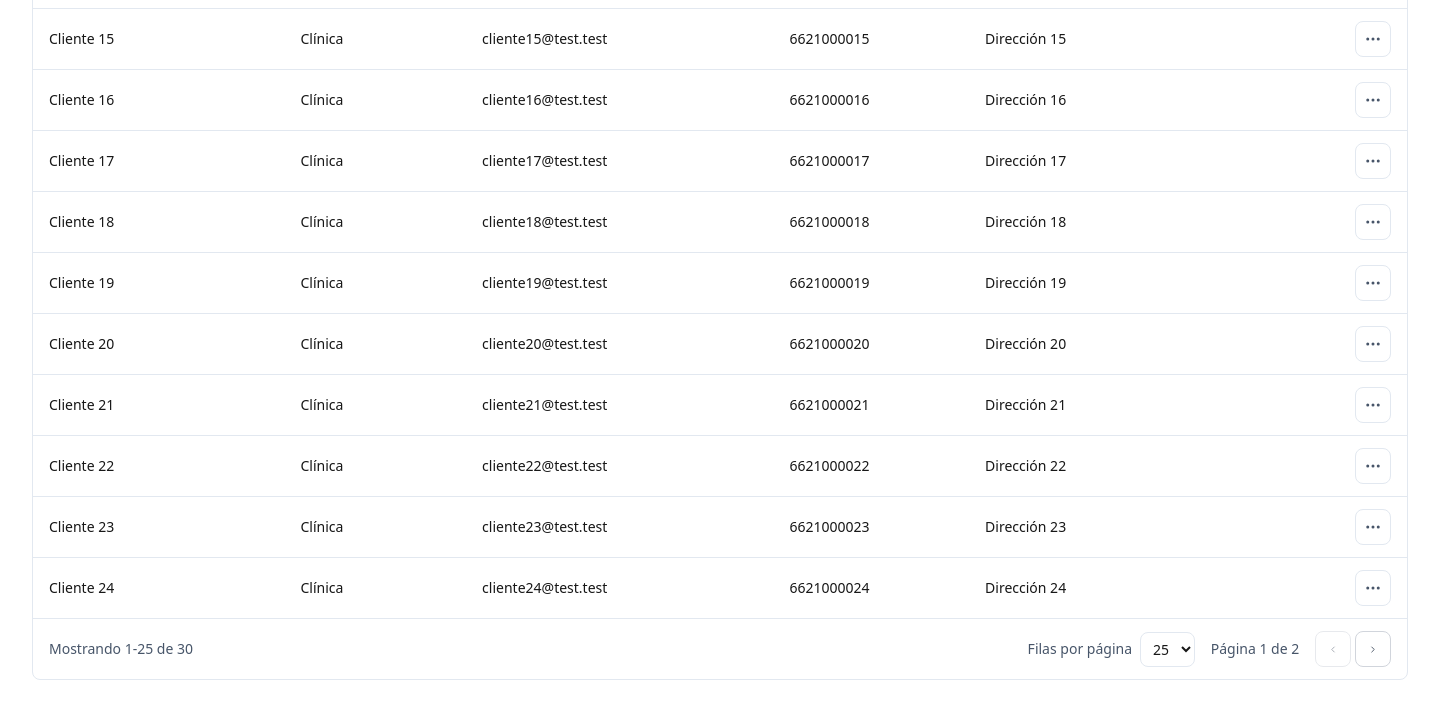
Test case: CustomersPage › pagina con 25 filas por defecto, permite cambiar tamaño y reinicia la búsqueda
This screenshot has width=1440, height=712.
(page scrolled)
Check: the text "Mostrando 1-25 de 30" is shown, box [49, 639, 193, 659]
Check: the text "Cliente 29" is not shown
Click the button named "Página siguiente". click: x=1373, y=649
box: [1355, 631, 1391, 667]
(page scrolled)
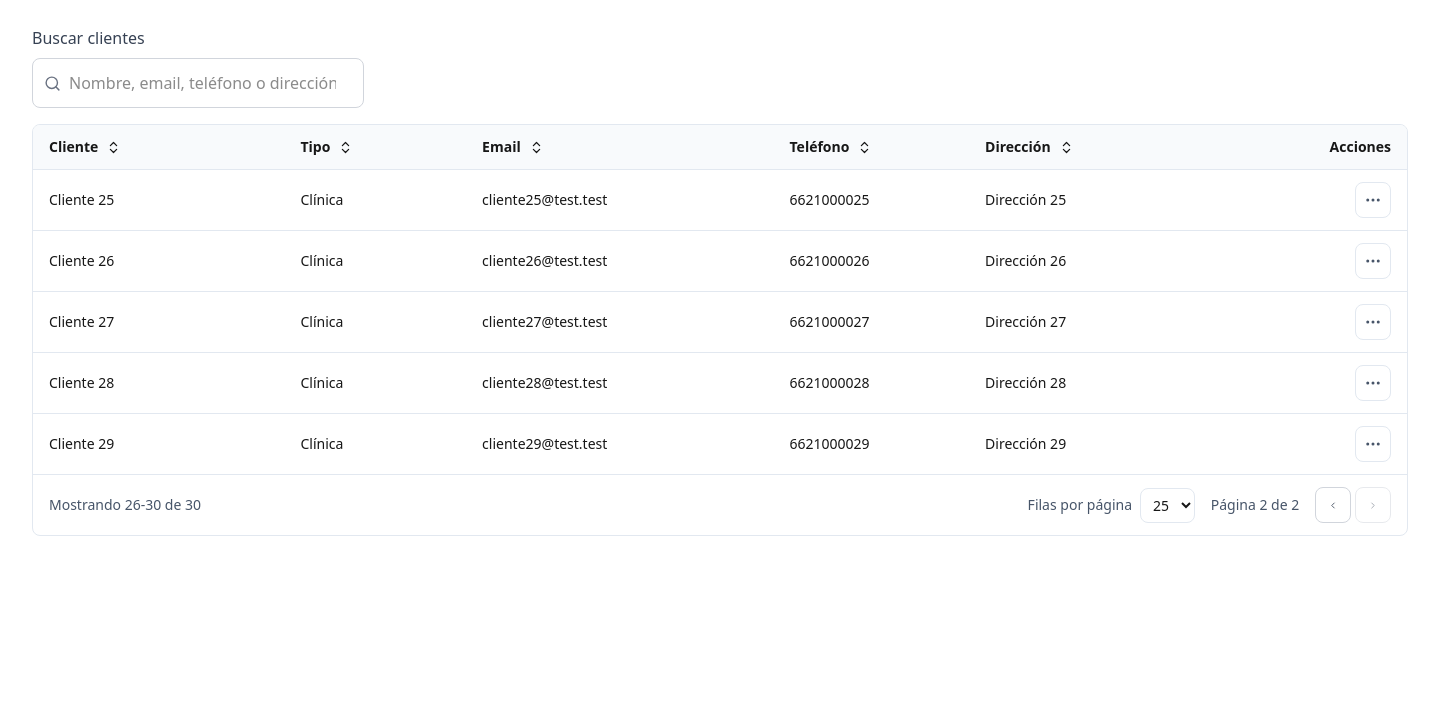
Check: the text "Cliente 29" is shown, box [33, 414, 284, 474]
Check: the text "Mostrando 26-30 de 30" is shown, box [49, 495, 201, 515]
Select "10" in the dropdown labelled "Filas por página". click: x=1168, y=505
box: [1140, 488, 1195, 522]
(page scrolled)
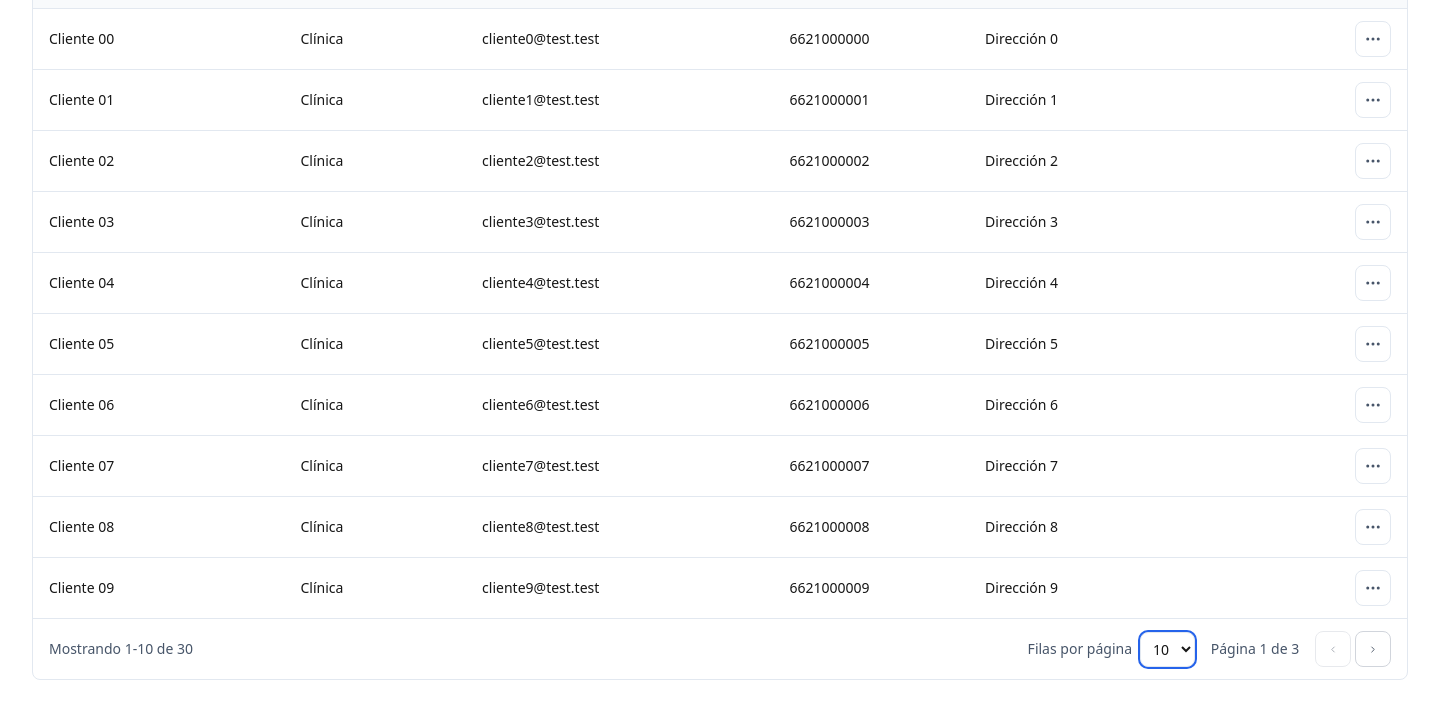
Check: the text "Mostrando 1-10 de 30" is shown, box [49, 639, 193, 659]
Check: the text "Cliente 00" is shown, box [33, 8, 284, 70]
Check: the text "Cliente 29" is gone
Click the button named "Página siguiente". click: x=1373, y=649
box: [1355, 631, 1391, 667]
(page scrolled)
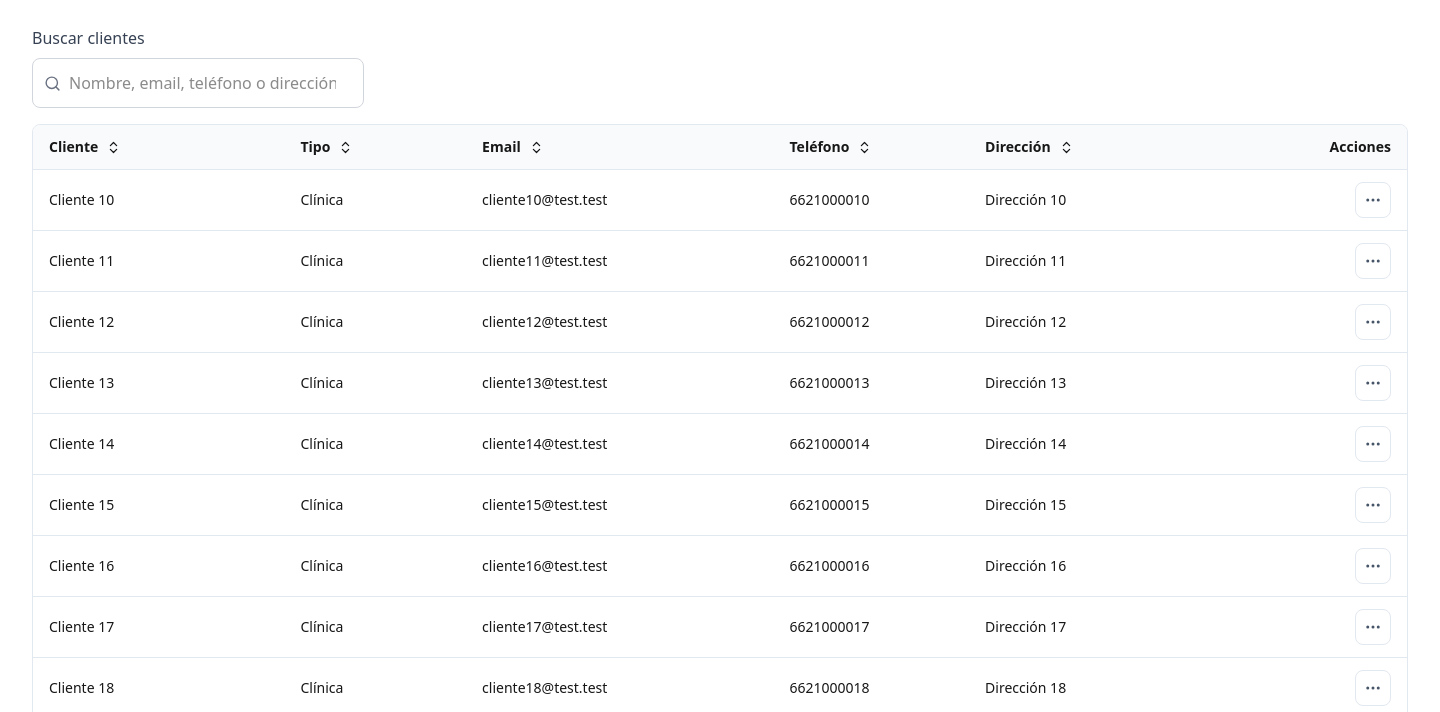
Check: the text "Cliente 10" is shown, box [33, 170, 284, 230]
Type "Cliente 29" into the search field labelled "Buscar clientes". click: x=198, y=83
box: [32, 58, 364, 108]
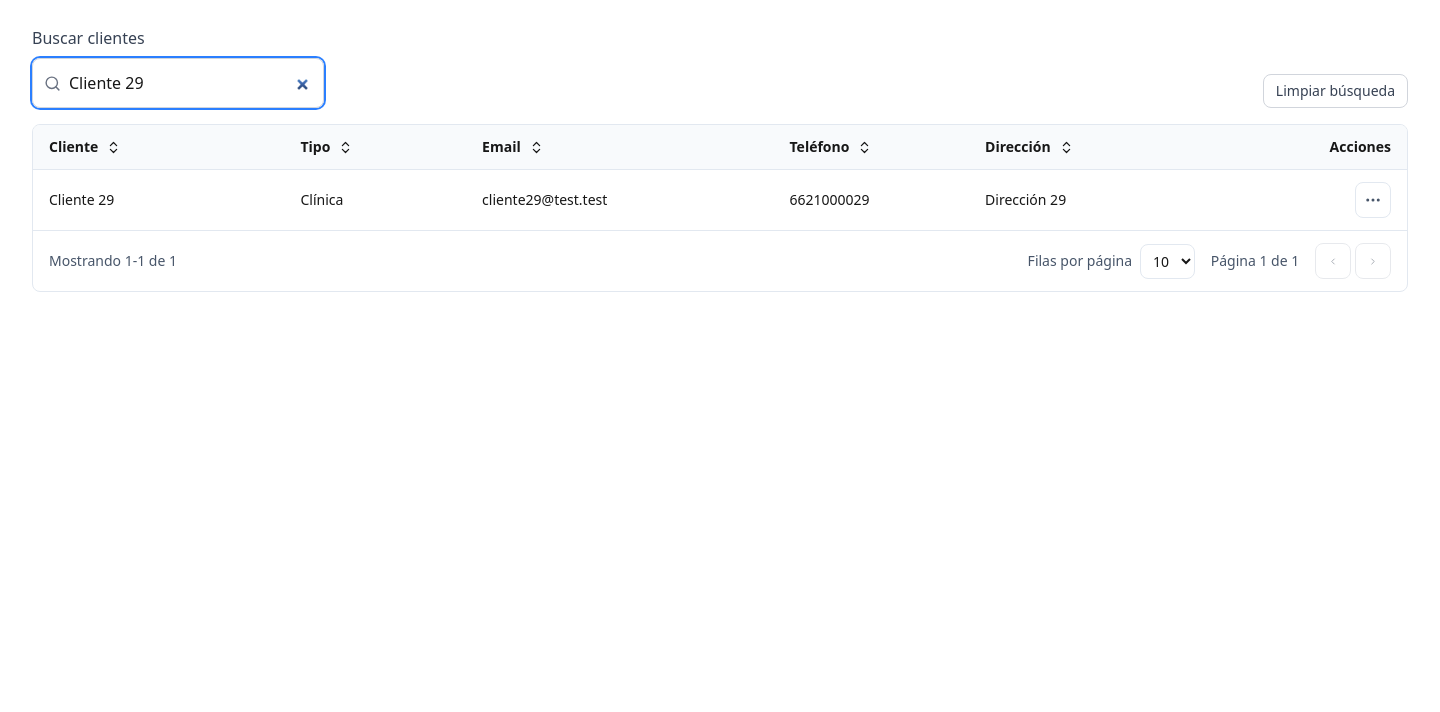
Check: the text "Mostrando 1-1 de 1" is shown, box [49, 251, 177, 271]
Check: the text "Cliente 29" is shown, box [33, 170, 284, 230]
